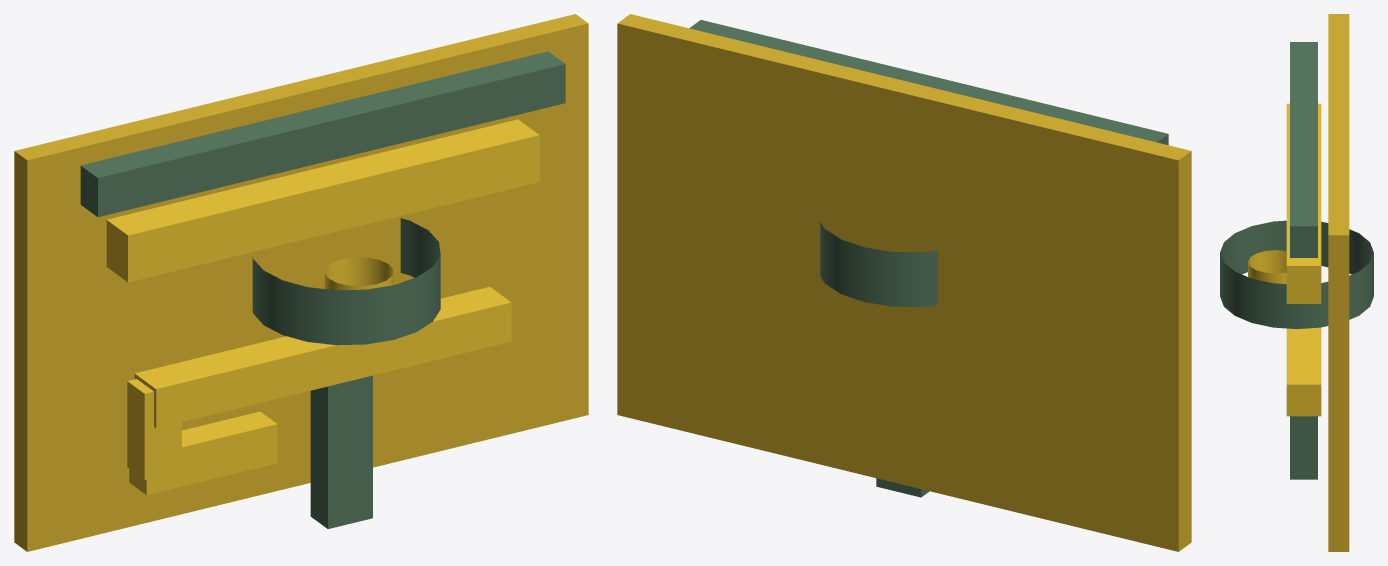
File: eye_of_horus.glb
The picture shows the model from 3 angles, left to right: view 1: azimuth 30°, elevation 25°; view 2: azimuth 150°, elevation 25°; view 3: azimuth 270°, elevation 25°; orthographic projection. The views are drawn at different scales.
Bounding box in the file's own units: 1.5 × 1.07 × 0.44.
